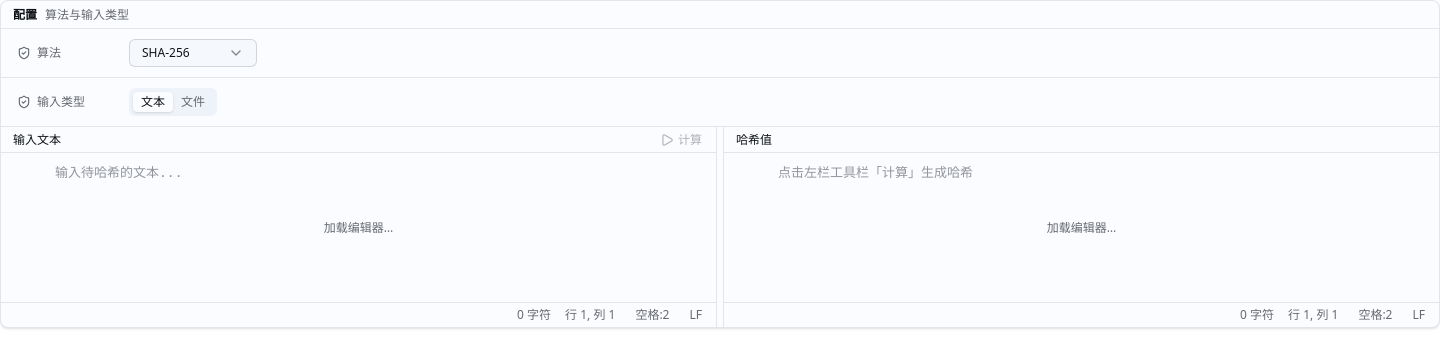
Test: HashCalculator › 切到文件模式显示拖放区与选择按钮,默认不触发任何执行
Press the mouse on the tab with test id "hash-mode-file": (193, 102) top-left (173, 92), bottom-right (213, 112)
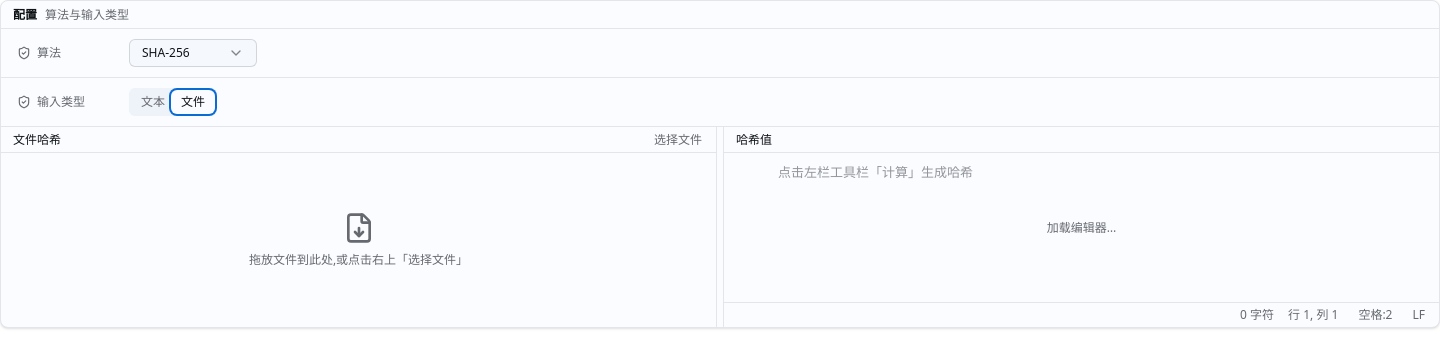
Expected: the element with test id "hash-file-panel" is shown, top-left (1, 127), bottom-right (717, 327)
Expected: the element with test id "hash-dropzone" is shown, top-left (249, 212), bottom-right (468, 268)
Expected: the button with test id "hash-open" is shown, top-left (648, 127), bottom-right (708, 152)
